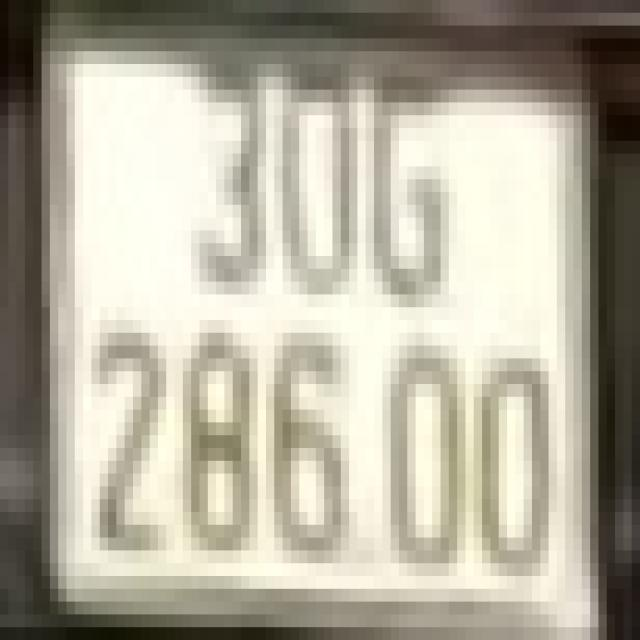0: (274, 64, 358, 307), (474, 346, 557, 576), (382, 346, 466, 563)
2: (83, 320, 175, 550)
3: (191, 64, 274, 294)
6: (266, 333, 349, 563)
8: (183, 320, 258, 550)
G: (366, 58, 457, 314)
